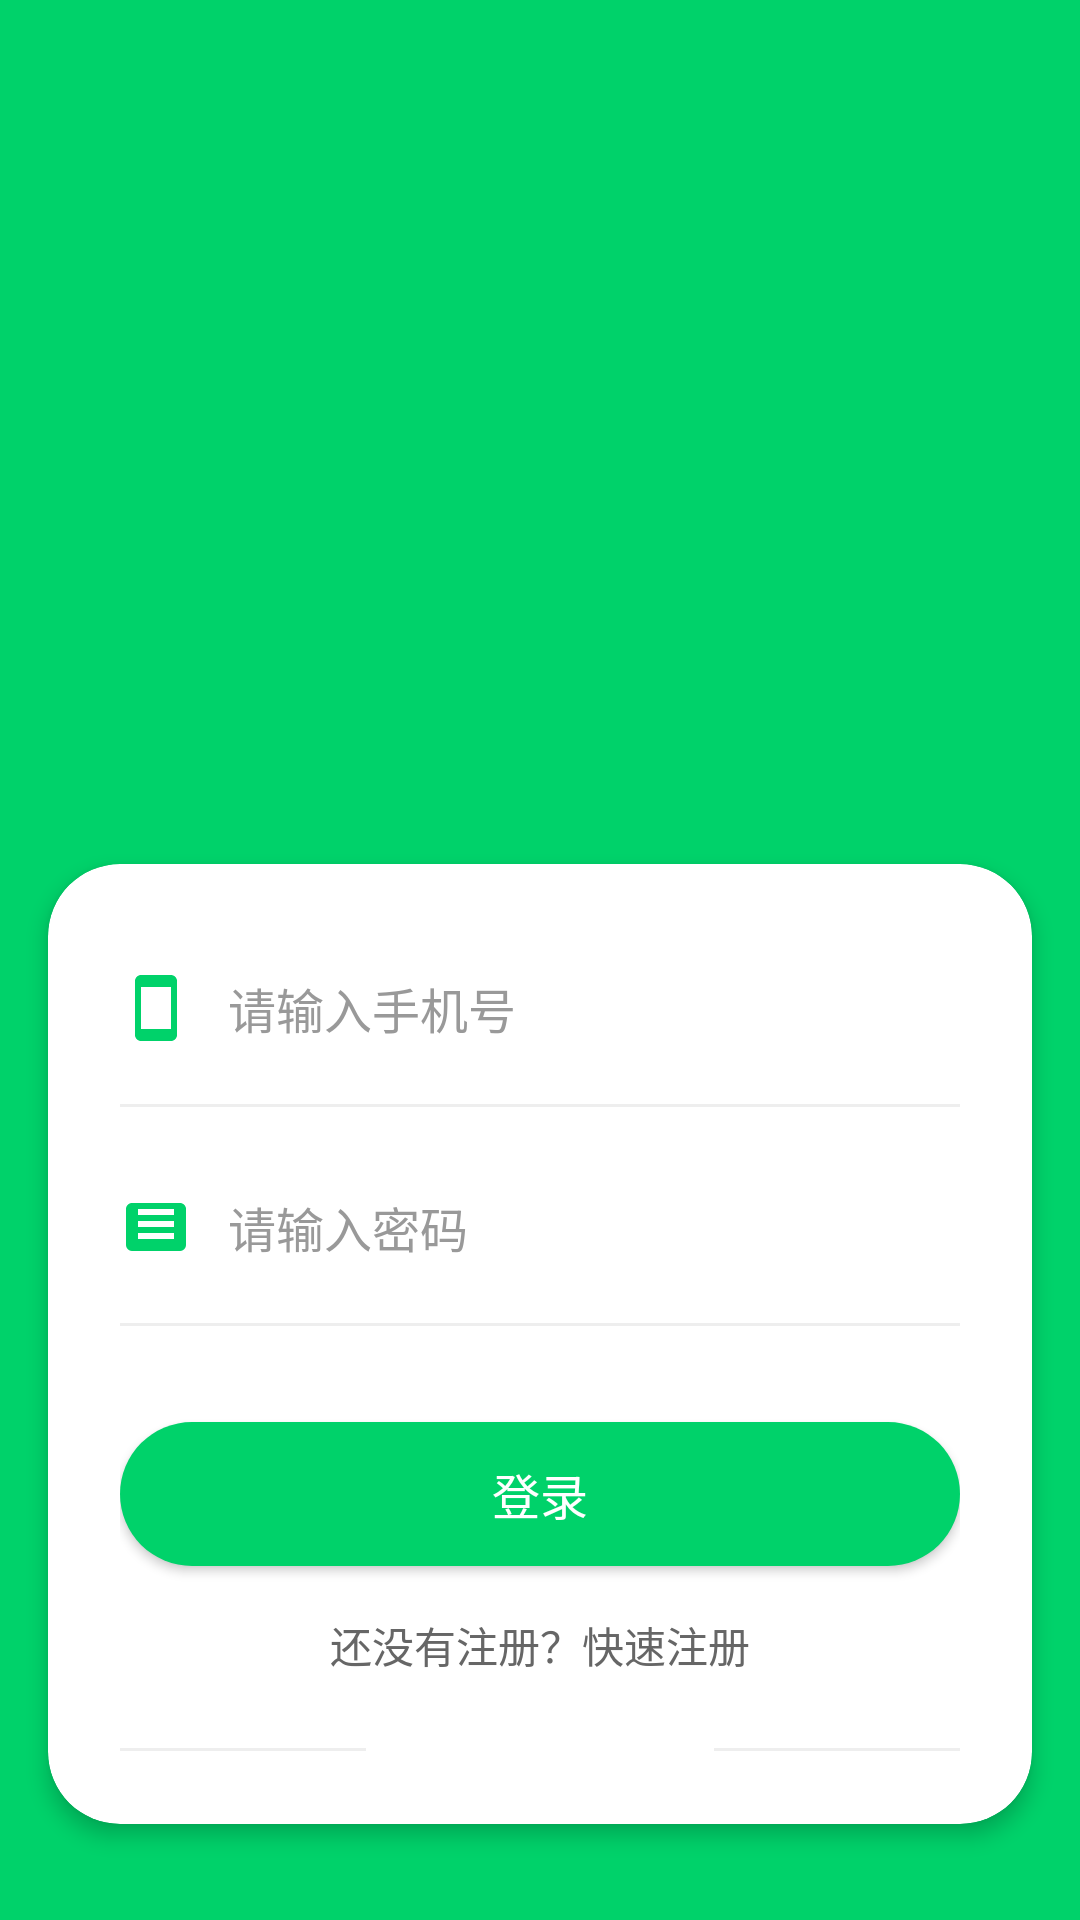

Screen size 1080×1920. Icon name, then its box in pixels as {"x1": x1, "y1": y1, "x2": x2, "y2": y2}:
phone: {"x1": 135, "y1": 975, "x2": 177, "y2": 1041}
